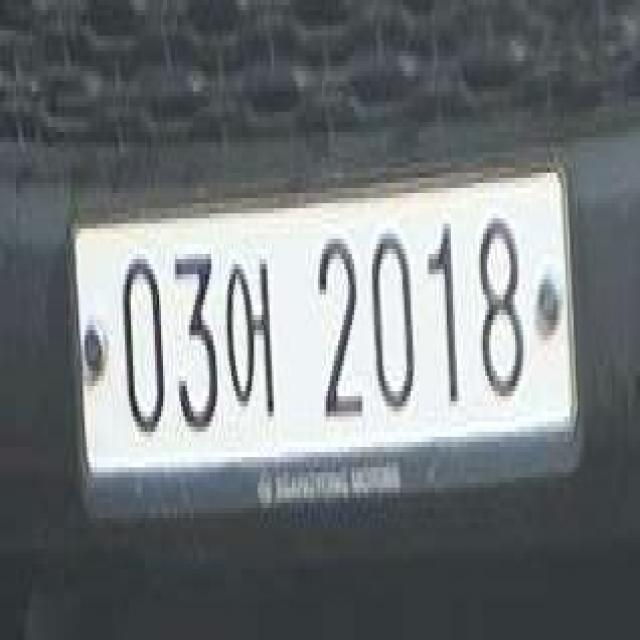illegal_plate: (79, 161, 578, 526)
